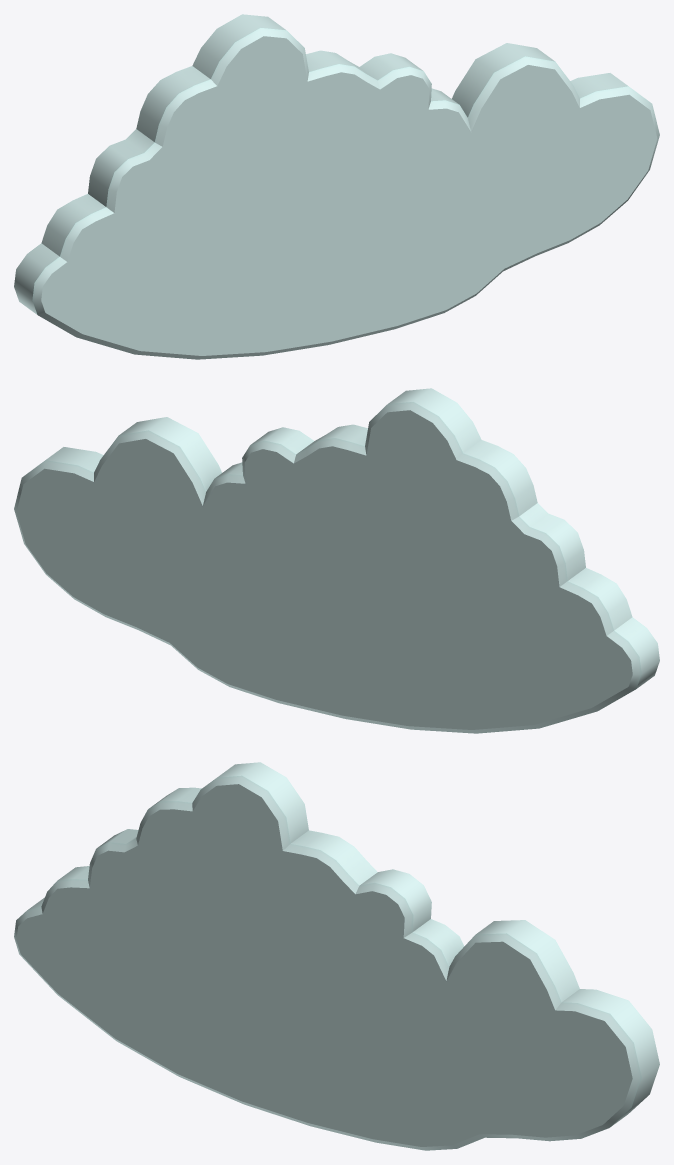
Rendered from platcloud00.fbx.
The picture shows the model from 3 angles, top to bottom: view 1: azimuth 30°, elevation 25°; view 2: azimuth 150°, elevation 25°; view 3: azimuth 330°, elevation 25°; orthographic projection.
Parts seen in each view (by area): view 1: platcloud00; view 2: platcloud00; view 3: platcloud00.
Boxes of the visible parts, x1=… form: platcloud00: x1=14, y1=14, x2=659, y2=359; platcloud00: x1=14, y1=388, x2=659, y2=733; platcloud00: x1=14, y1=762, x2=659, y2=1150.
Size of the model in its own units: 1064 by 542 by 72.69.
